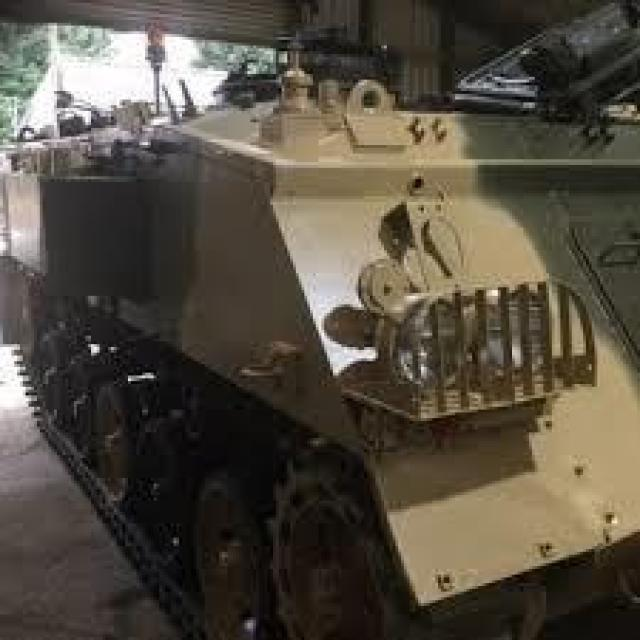MIL_MBT: (3, 47, 634, 633)
